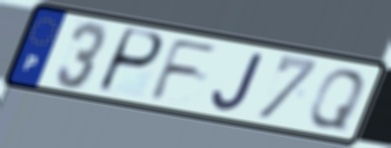3: (54, 18, 108, 91)
7: (256, 52, 321, 123)
F: (147, 37, 223, 103)
J: (209, 50, 268, 114)
P: (93, 26, 167, 97)
Q: (305, 67, 369, 132)
